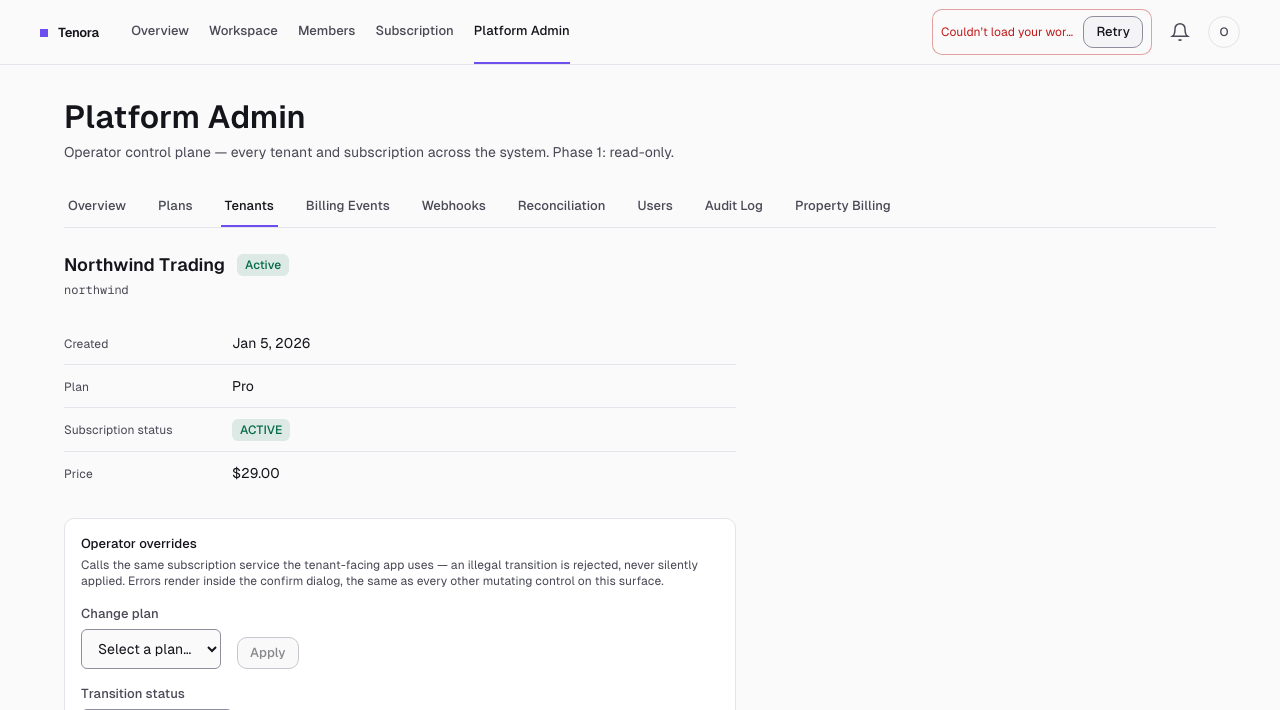
Test case: TenantDetailPage — subscription override controls (Phase 2) › confirming a plan change PATCHes the endpoint with plan_id and refetches the tenant
The width and height of the screenshot is (1280, 710).
Expected: the heading "Northwind Trading" is shown, [64,252,225,278]
Select "Team" in the dropdown labelled "Change plan". click: (151, 649)
box: [81,629,221,669]
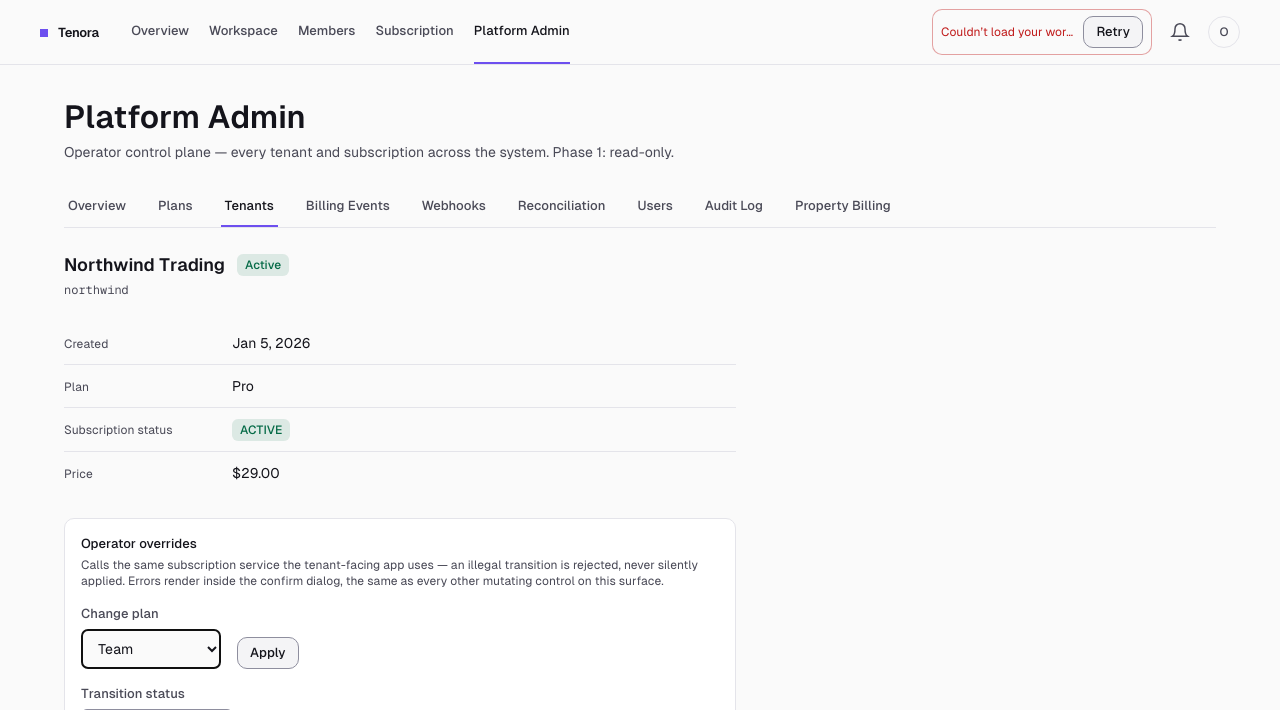
Click the button "Apply" below "Change plan". click: (268, 653)
box: [237,637,299,669]
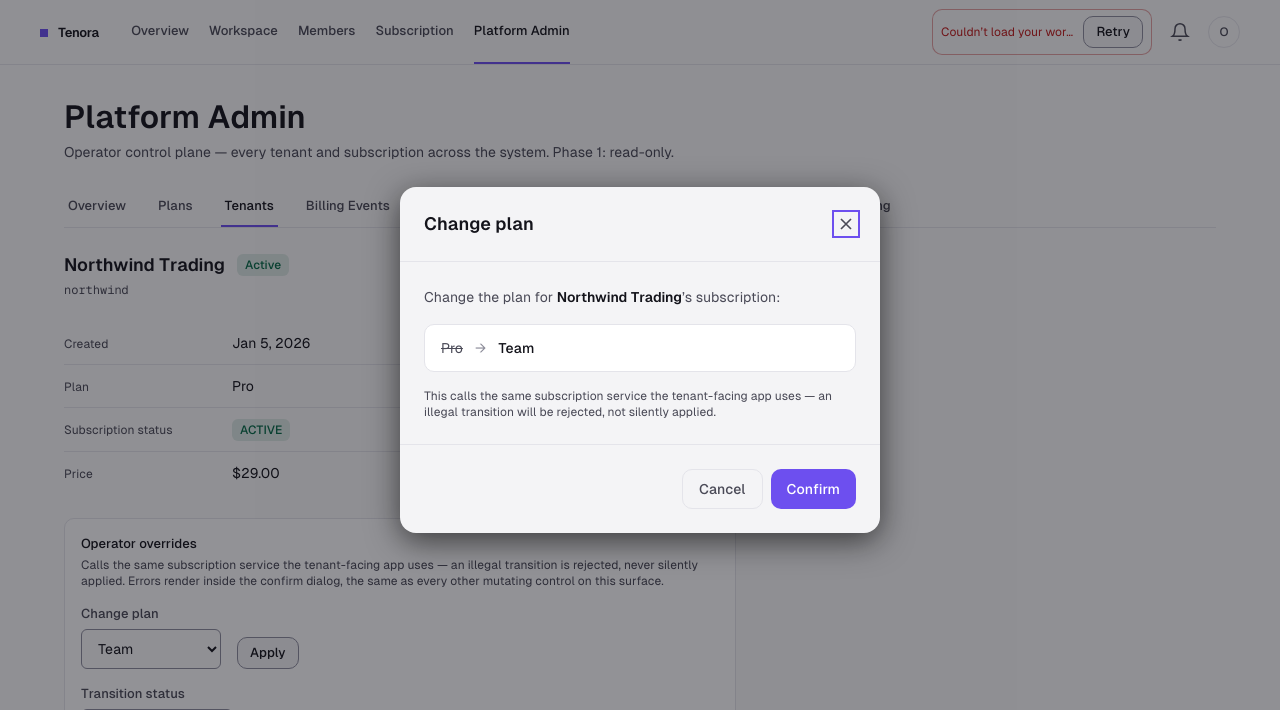
Now the dialog "Change plan" is shown, box [400,187,880,533]
Click the button "Confirm". click: (813, 489)
box: [770,469,856,509]
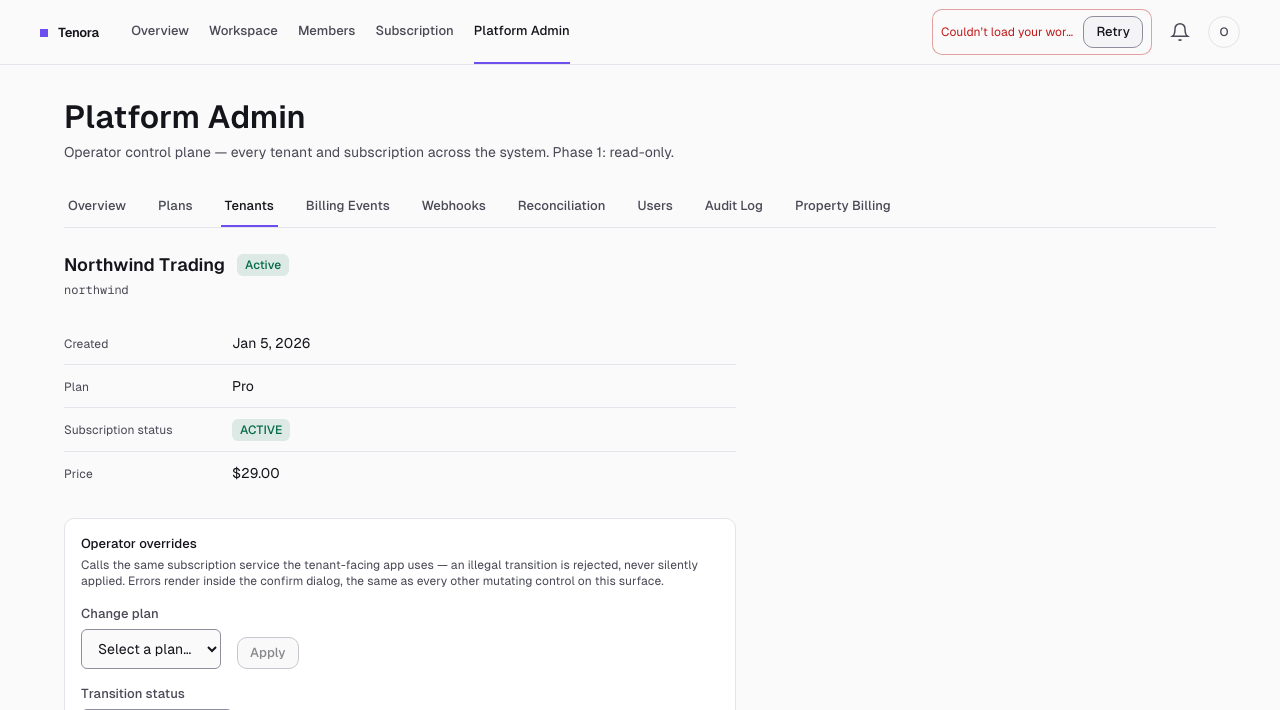
Now the dialog is gone
